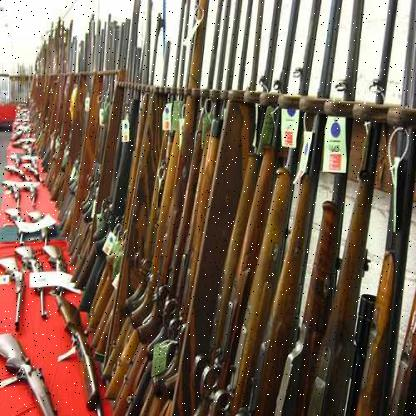rifle: (0, 329, 72, 415), (16, 225, 51, 335), (0, 242, 28, 348)
